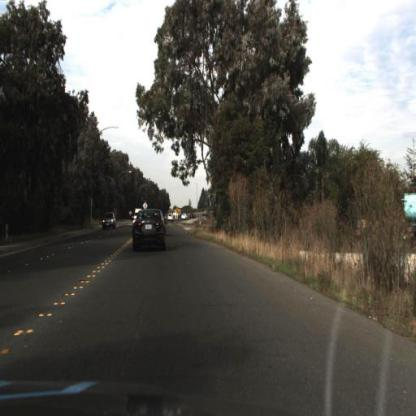car: (133, 206, 167, 251), (100, 211, 119, 231), (101, 211, 115, 230)
